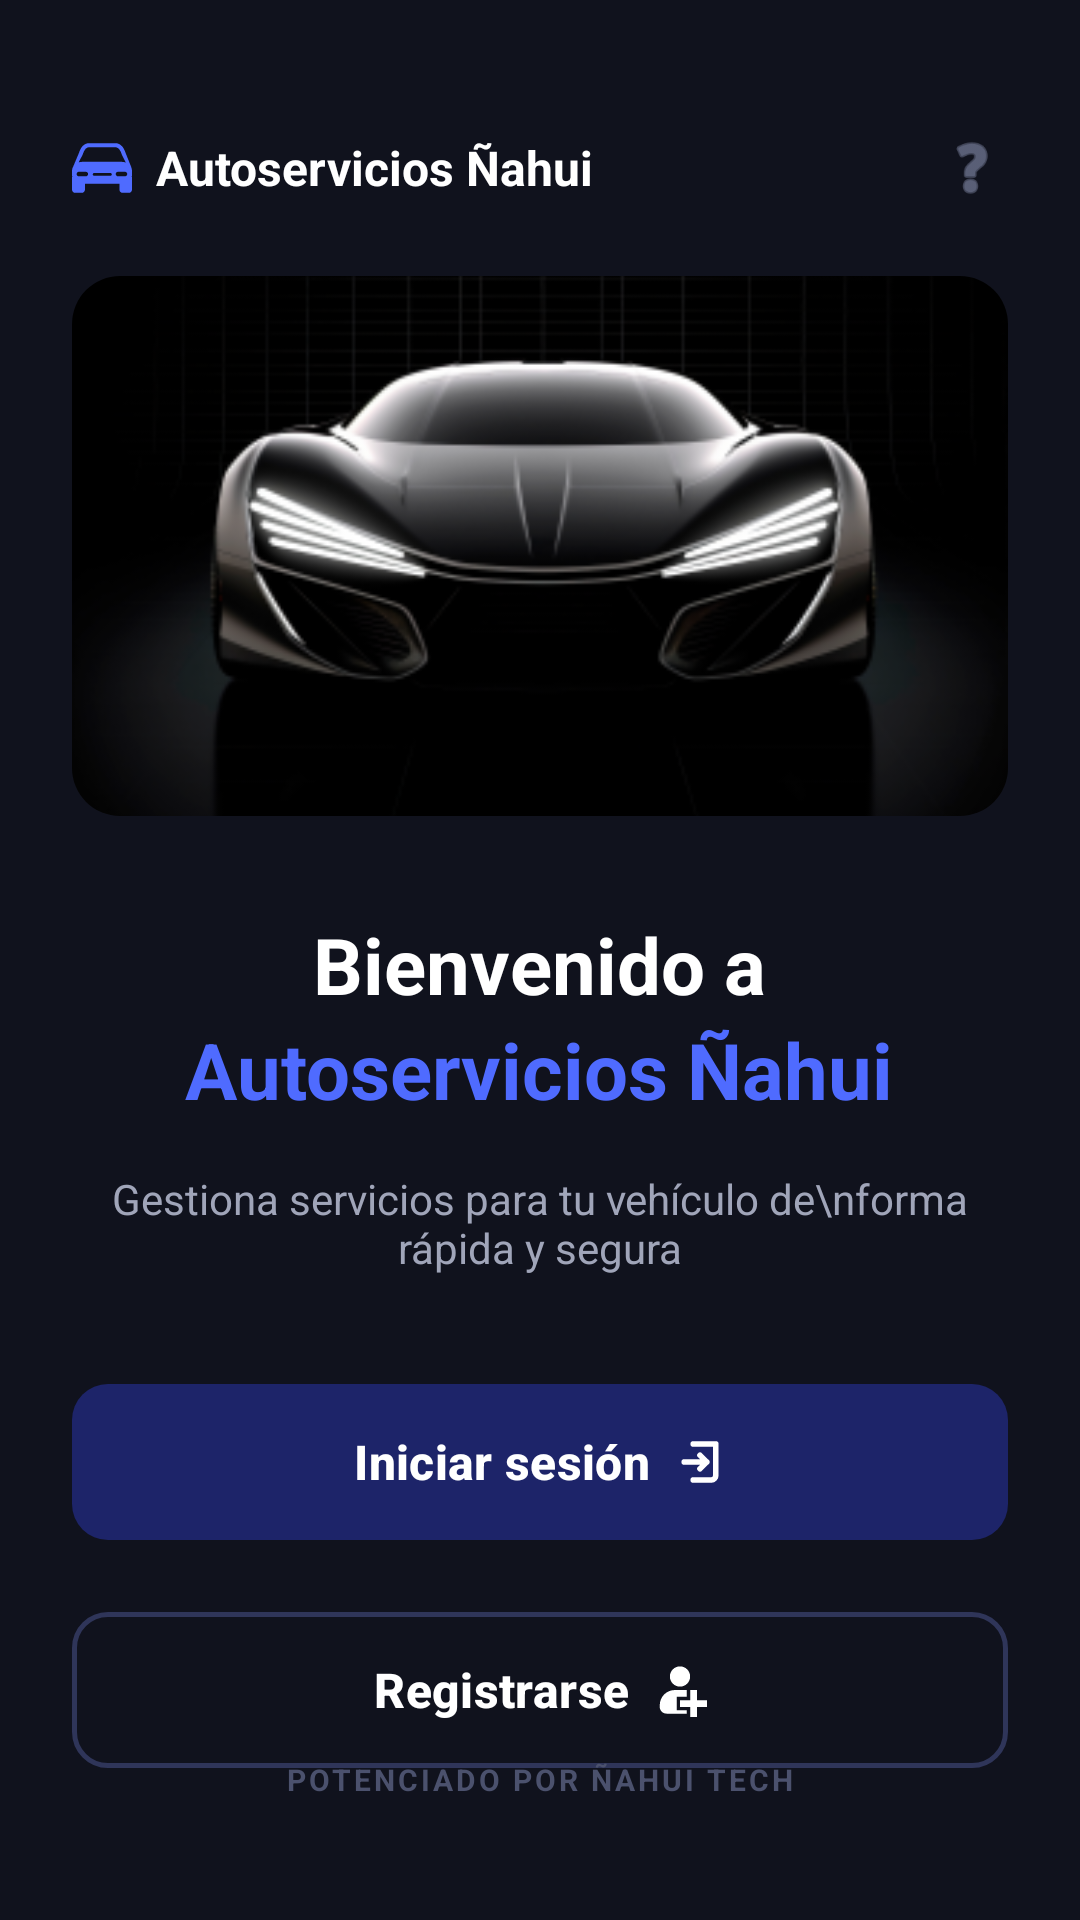

Icon bounding boxes for this 1080x1920 phone screenshot, format (x1=x1, y1=y1, x2=x2, y2=y2):
help: (x1=957, y1=142, x2=988, y2=194)
